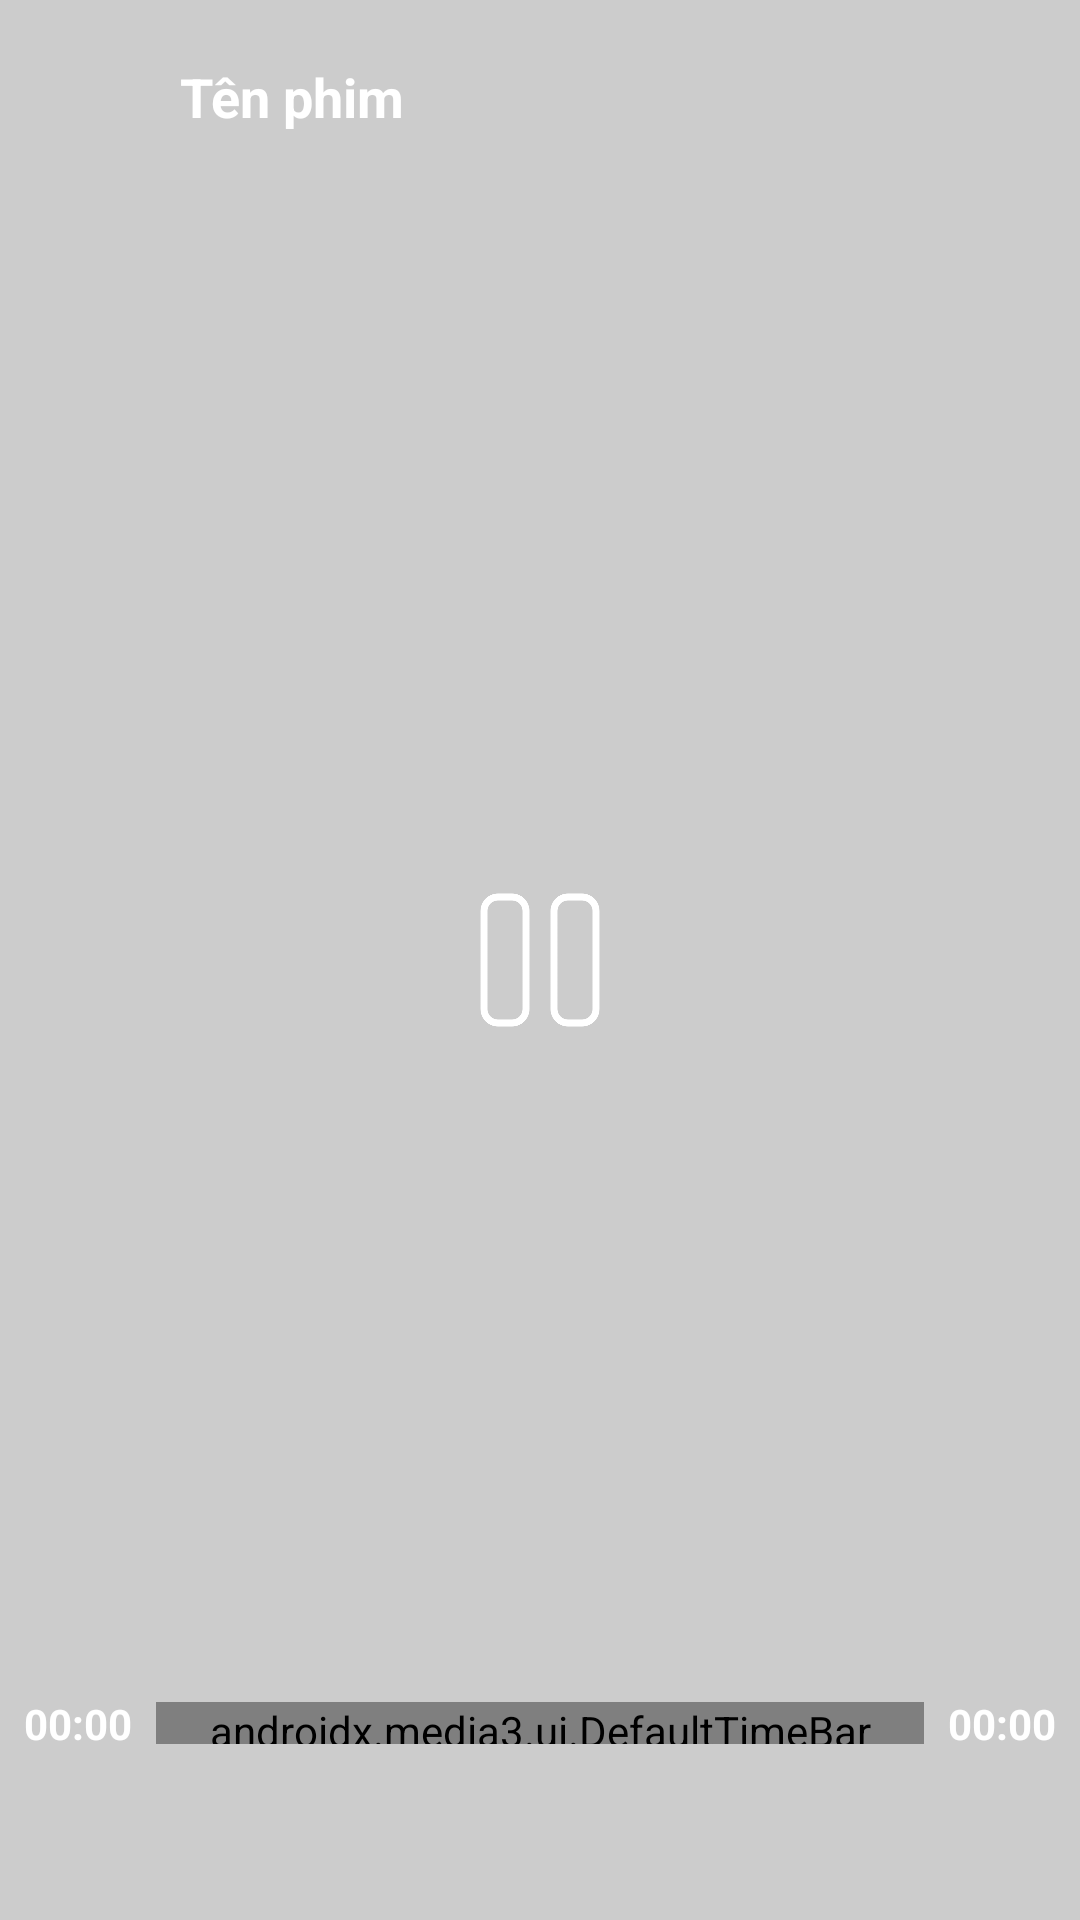

Screen size 1080 × 1920. Icon name, then its center in pixels as [x,y]:
pause: [540,960]
